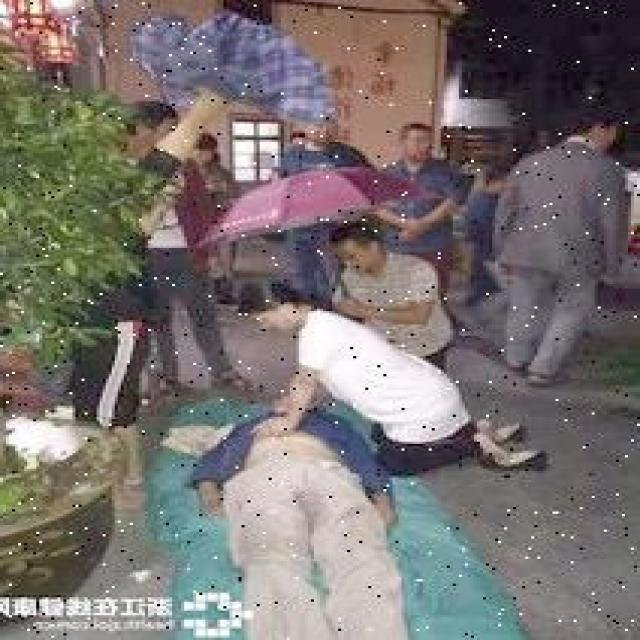fall: (190, 388, 429, 638)
